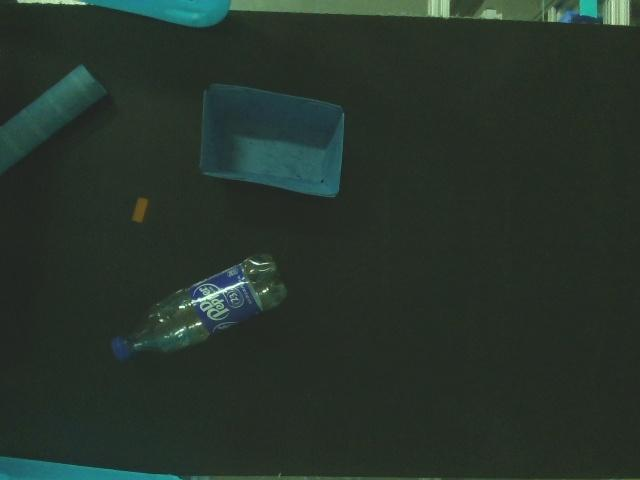cardboard: (197, 82, 345, 202), (1, 64, 110, 176)
plastic: (107, 248, 290, 364), (130, 195, 149, 226)
